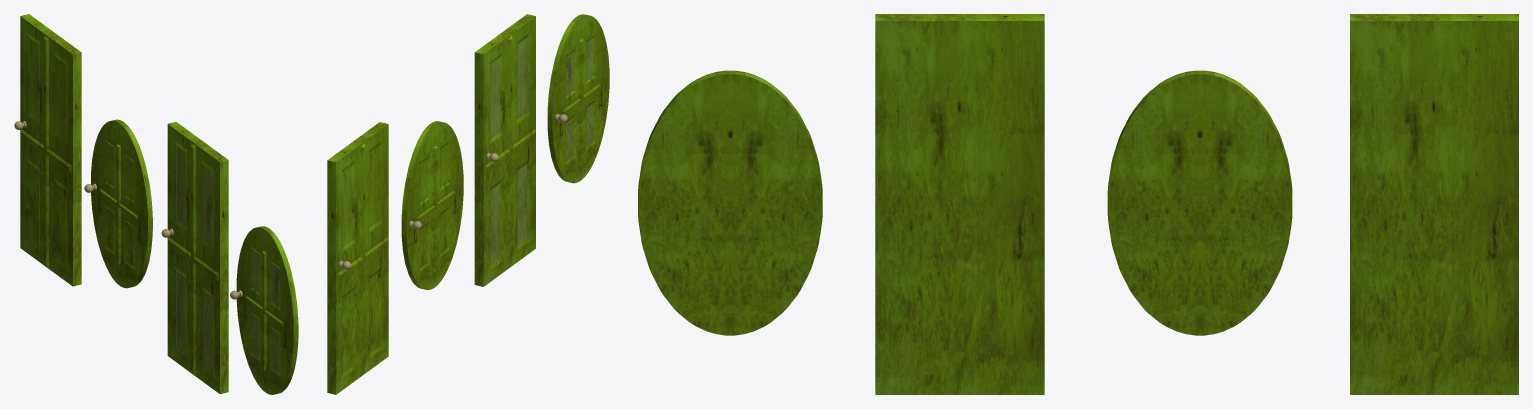
The model's file is Green_Doors.FBX.
3 views of the same model, side by side, from view 1: azimuth 30°, elevation 25°; view 2: azimuth 150°, elevation 25°; view 3: azimuth 270°, elevation 25° (orthographic). The views are drawn at different scales.
Parts seen in each view (by area): view 1: Box001, Box005, Box004, Box002; view 2: Box005, Box001, Box002, Box004; view 3: Box005, Box001, Box002, Box004.
Boxes of the visible parts, x1,y1,x2,y2 form: Box001: [14, 14, 81, 286]; Box005: [161, 122, 228, 393]; Box004: [230, 226, 298, 394]; Box002: [84, 119, 152, 288]; Box005: [474, 14, 535, 286]; Box001: [327, 122, 388, 394]; Box002: [401, 121, 463, 289]; Box004: [547, 14, 609, 183]; Box005: [875, 14, 1044, 394]; Box001: [1350, 14, 1518, 394]; Box002: [1107, 70, 1292, 335]; Box004: [638, 70, 822, 335].
Size of the model in its own units: 10.85 by 127 by 271.
Materials: 3 (1 with a texture image).
